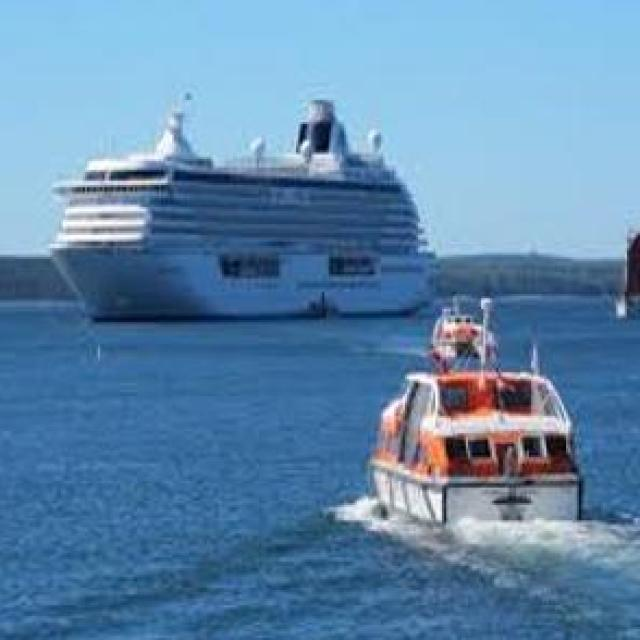navalvessels: (371, 290, 582, 530)
passenger ship: (54, 94, 432, 324)
